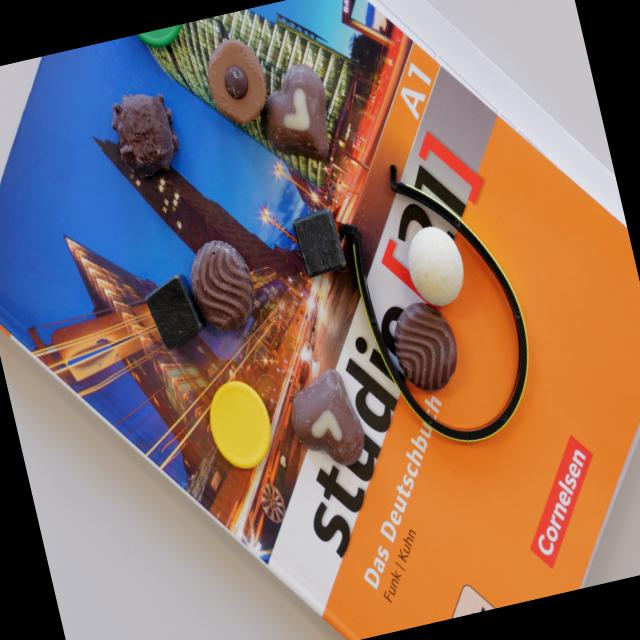Comtesse: (399, 219, 470, 309)
Noblesse: (200, 34, 272, 128)
Noir_authentique: (181, 235, 261, 340), (385, 298, 464, 396)
Passion_au_lait: (250, 58, 340, 171), (281, 364, 368, 474)
Tentation_noir: (105, 86, 182, 182)
